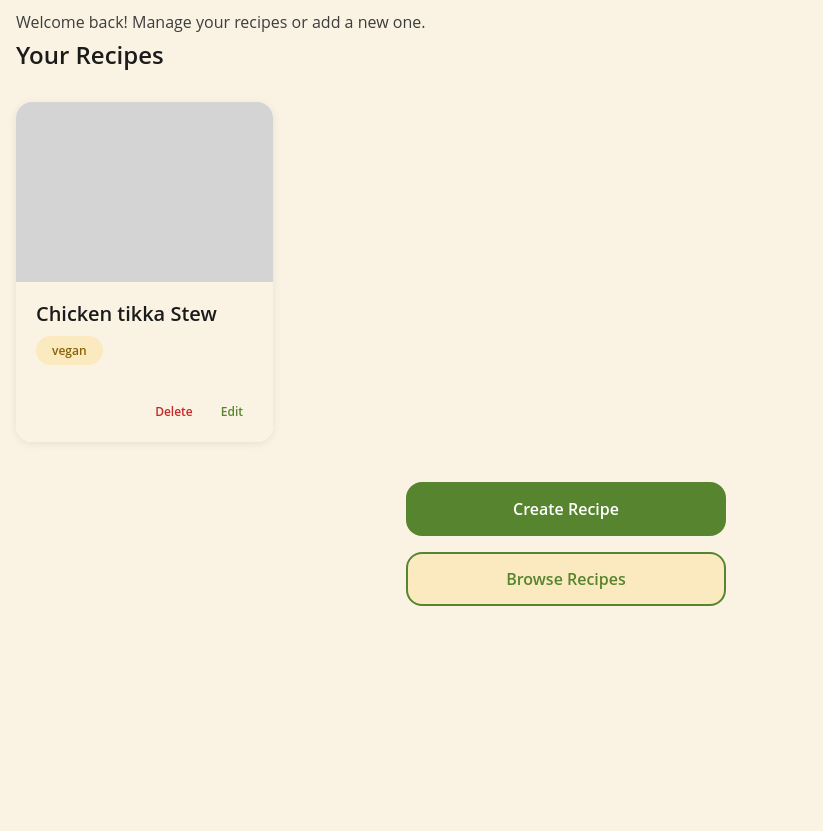
Edit Recipe navigation › displays the edit form when Edit is clicked on a recipe
The image size is (823, 831).
Expected: the heading "Chicken tikka Stew" is shown, [36,300,217,327]
Click the button "Edit" at (232, 411), box [211,397,253,426]
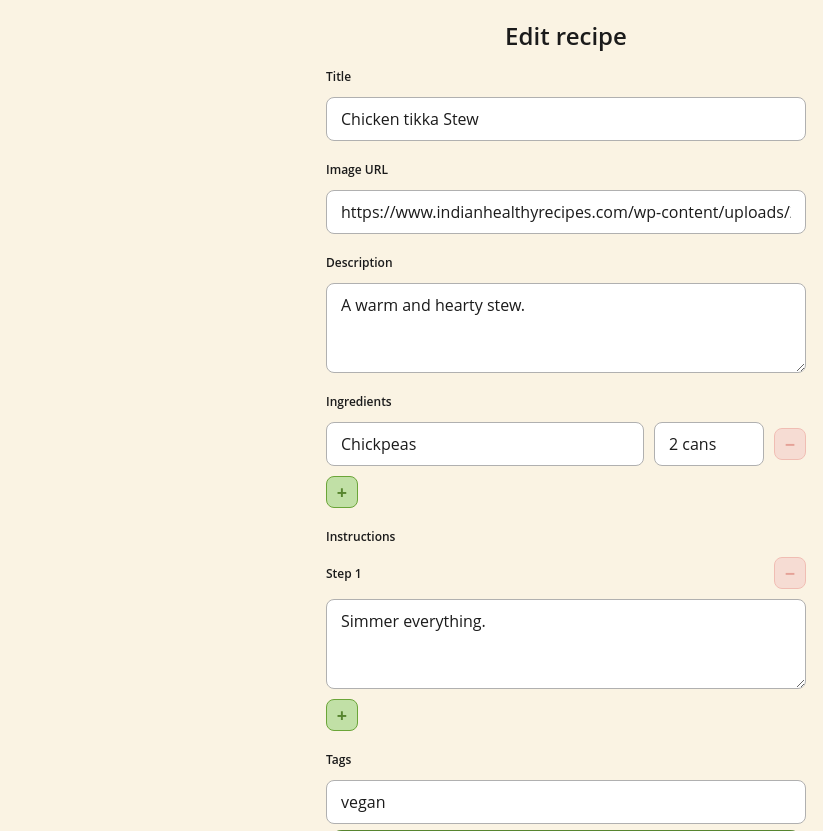
Result: the heading "Edit recipe" is shown at [505,19,627,52]
Result: the field showing "Chicken tikka Stew" is shown at [326,97,806,141]
